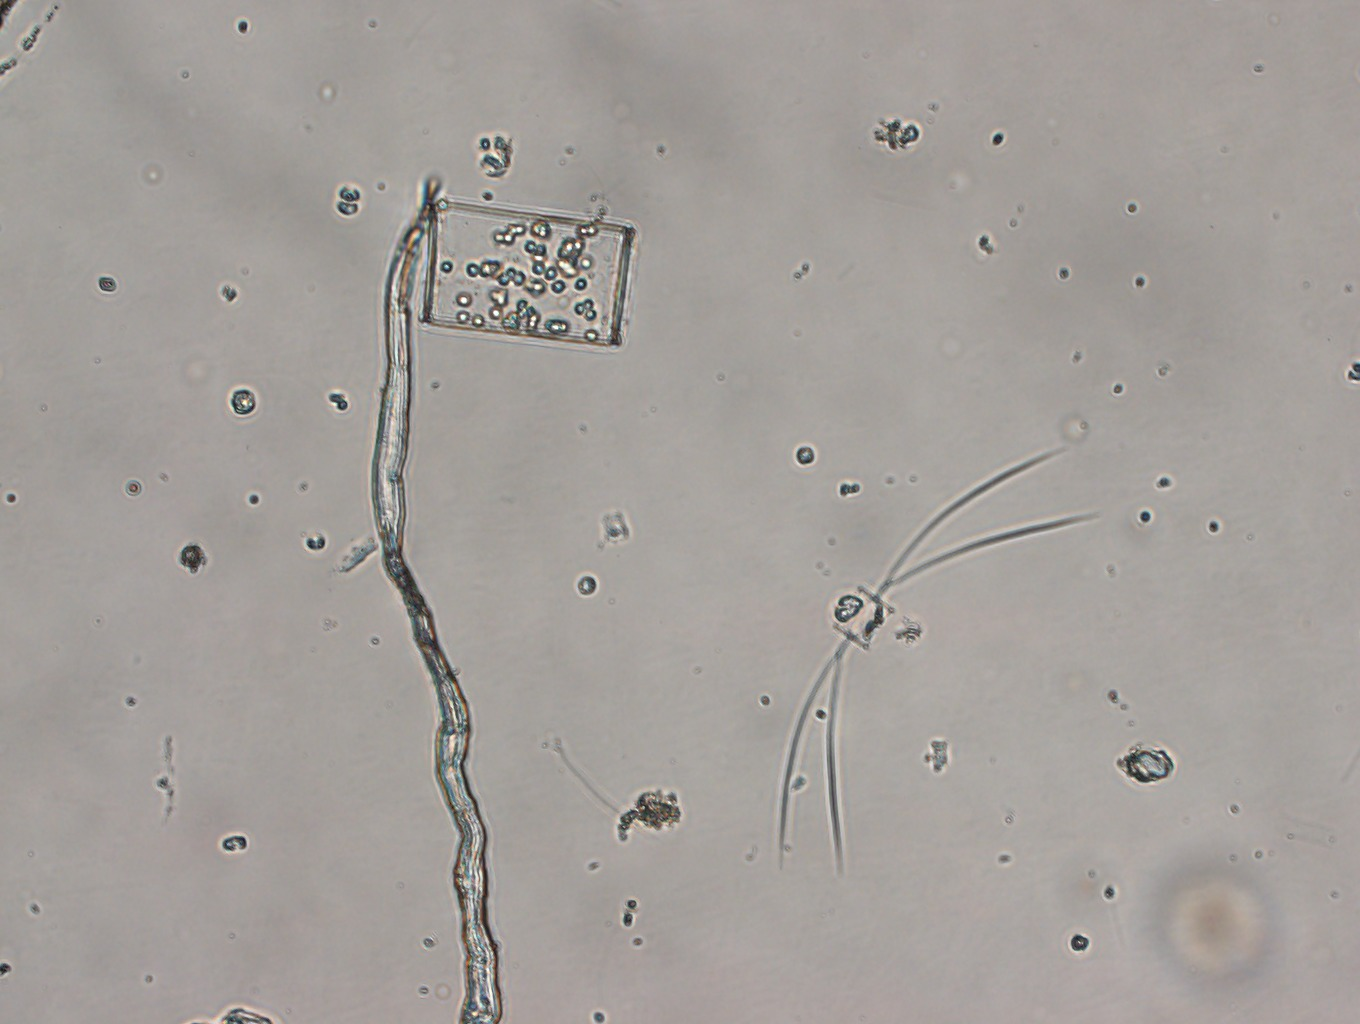chaetoceros: (776, 446, 1099, 874)
guinardia flaccida: (421, 199, 635, 349)
